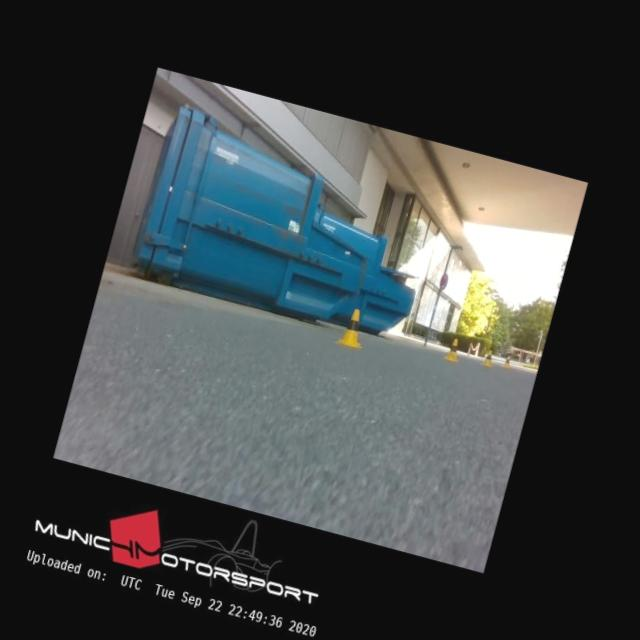yellow_cone: (336, 306, 368, 348), (444, 336, 463, 362), (482, 350, 495, 367), (501, 354, 511, 368)
